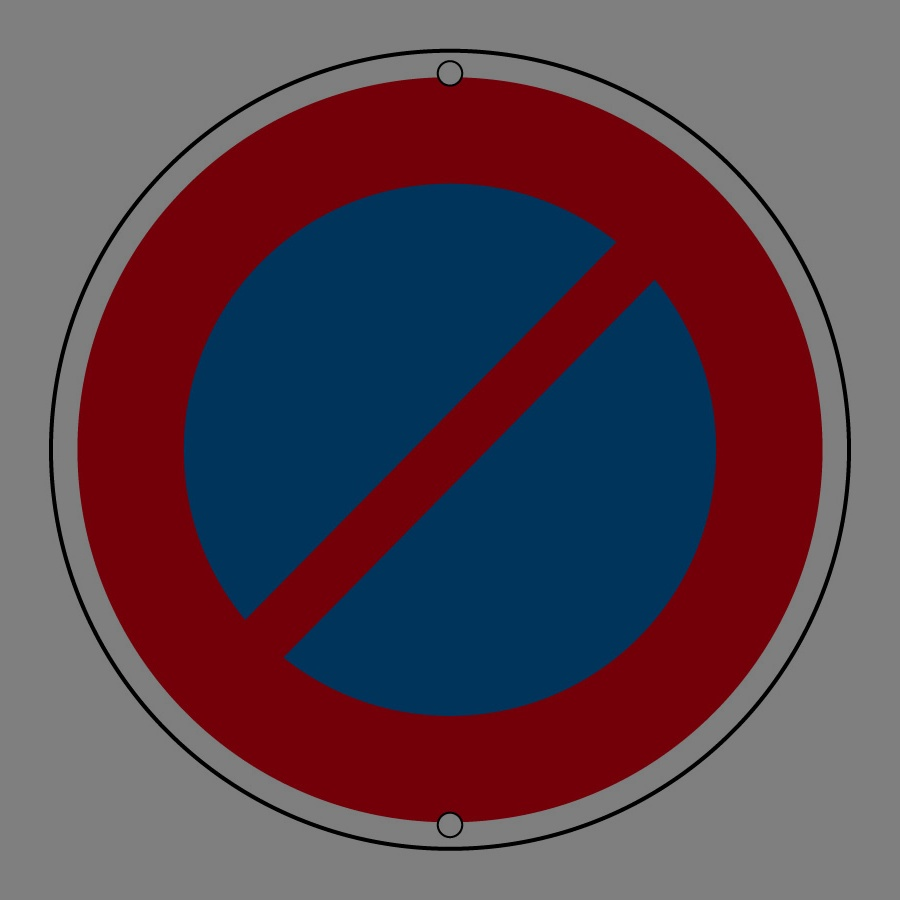Prohibition_sign: (19, 40, 864, 851)
